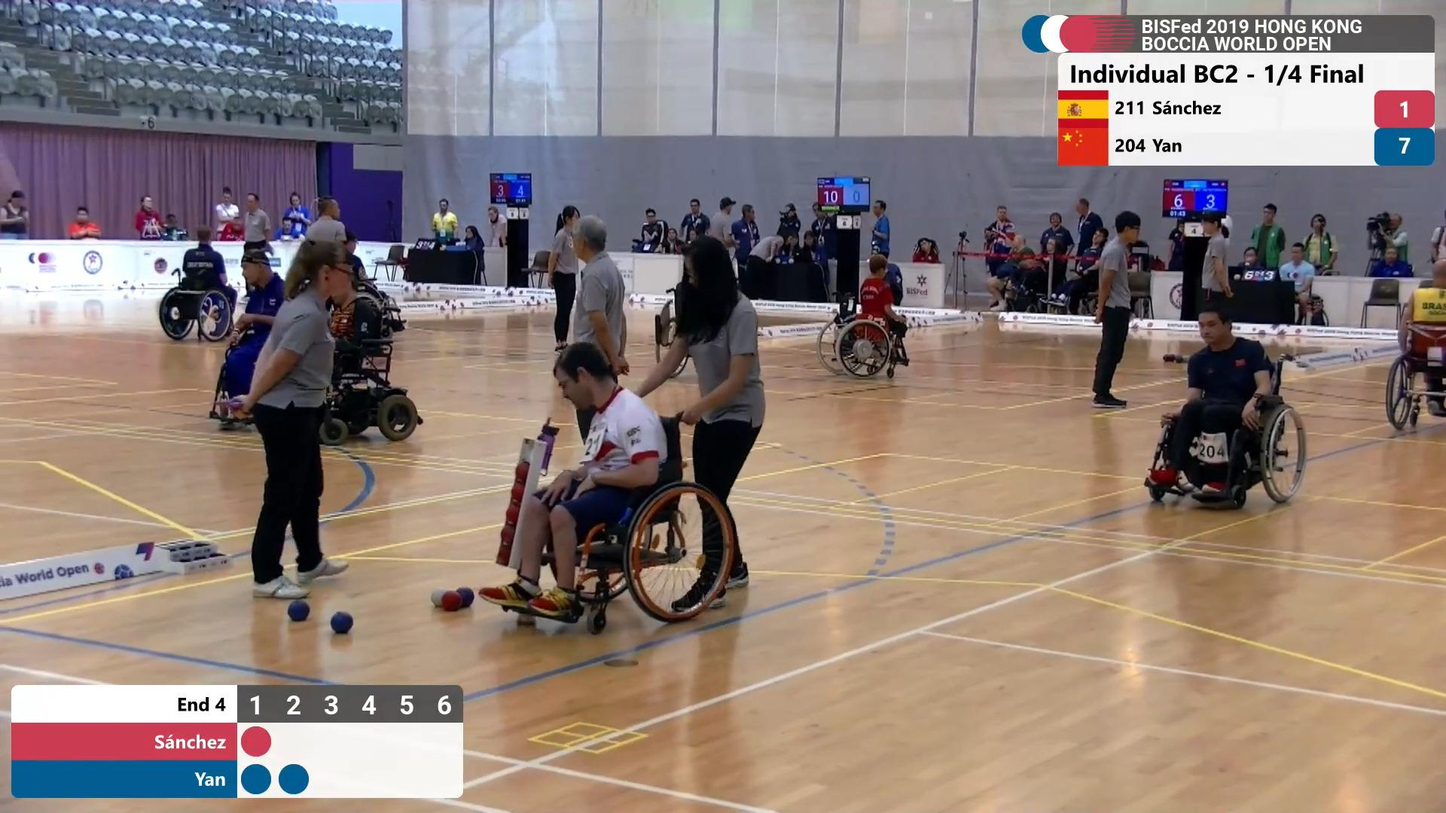blue_ball: (328, 608, 355, 635), (286, 596, 311, 624)
red_ball: (440, 588, 463, 613)
